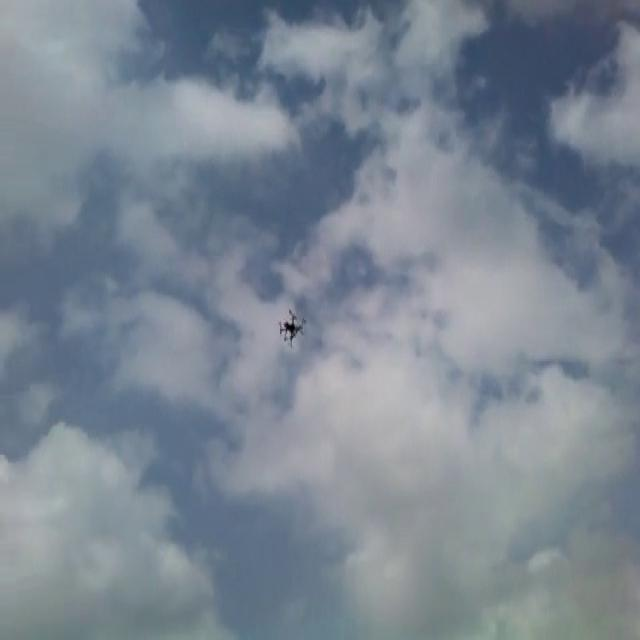drone: (276, 304, 306, 347)
